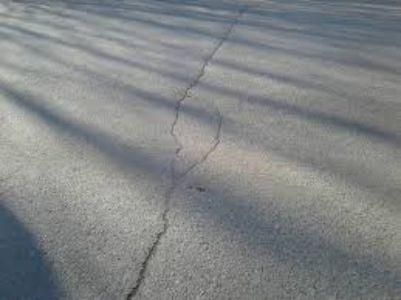crack: (118, 0, 248, 300)
